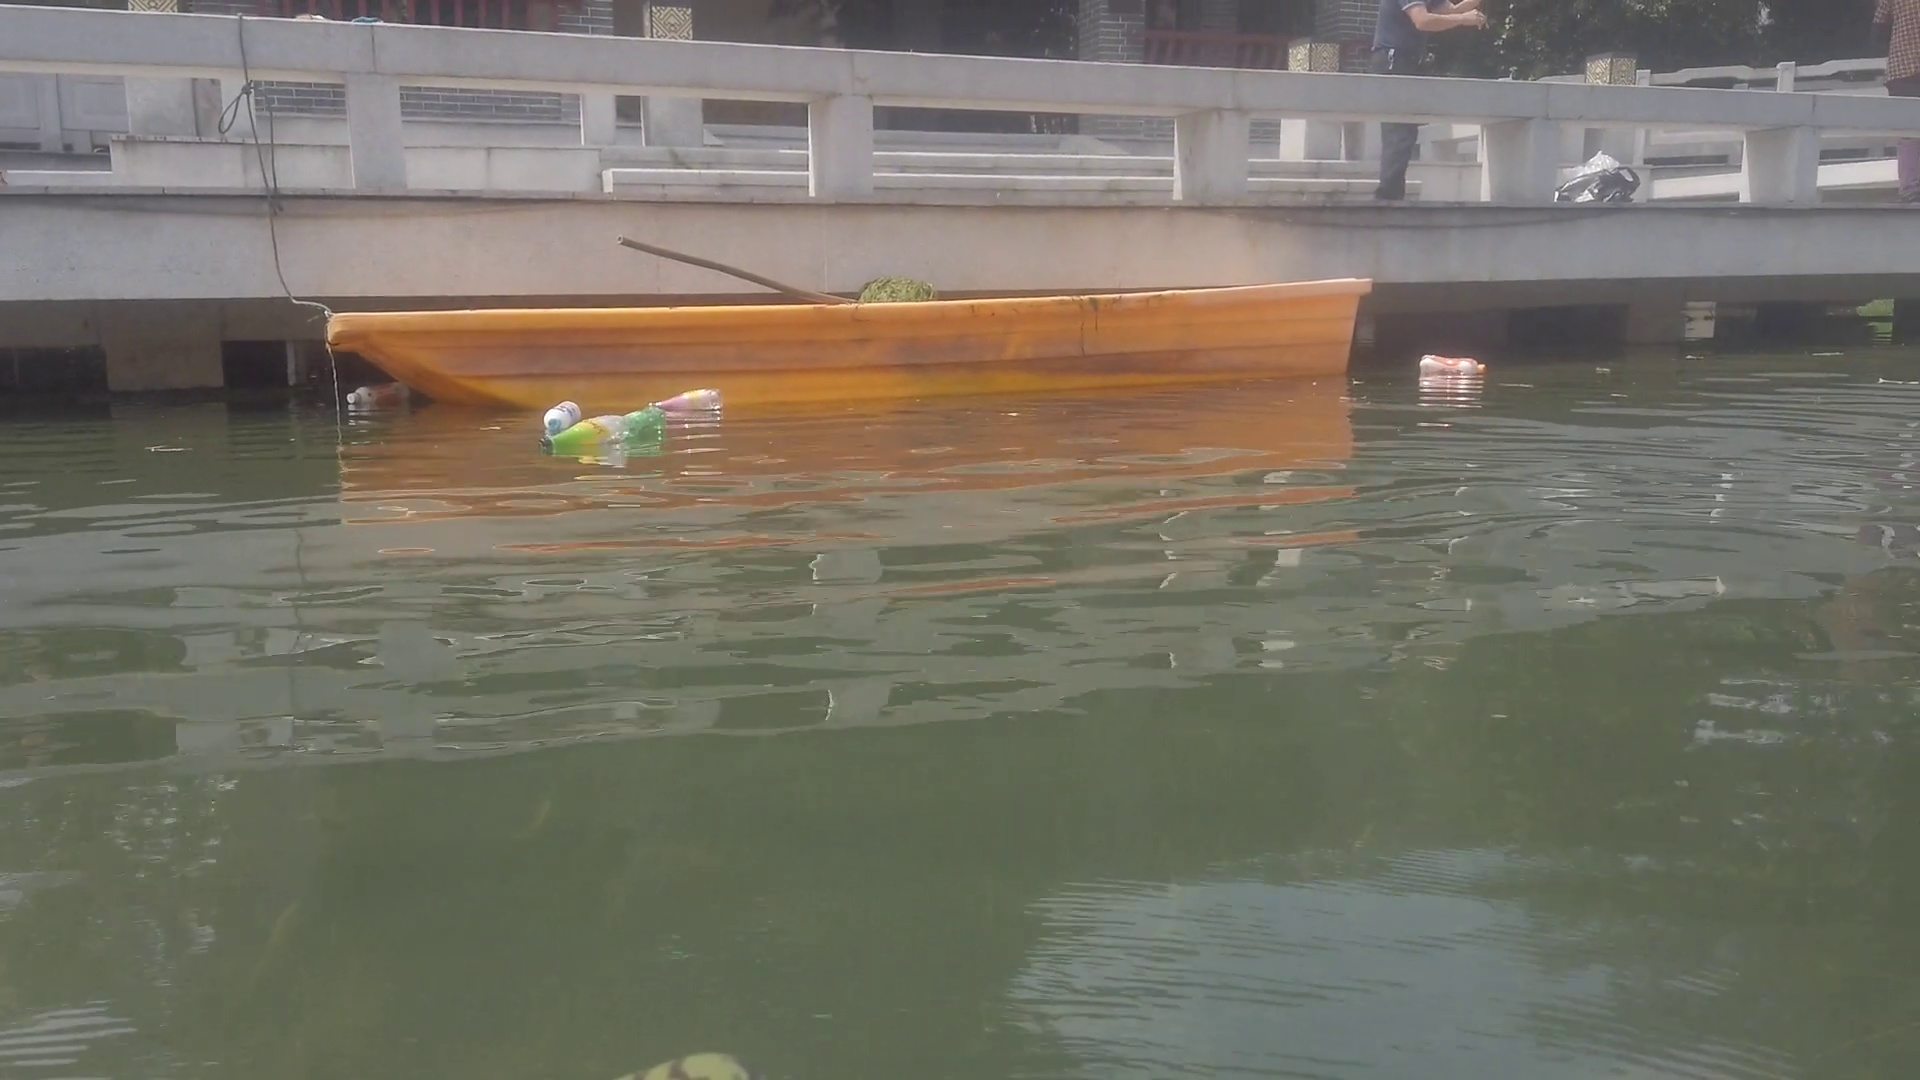bottle: (545, 407, 629, 447), (347, 376, 410, 405), (1418, 351, 1487, 373), (647, 389, 720, 407), (622, 407, 669, 433), (542, 402, 576, 429)
